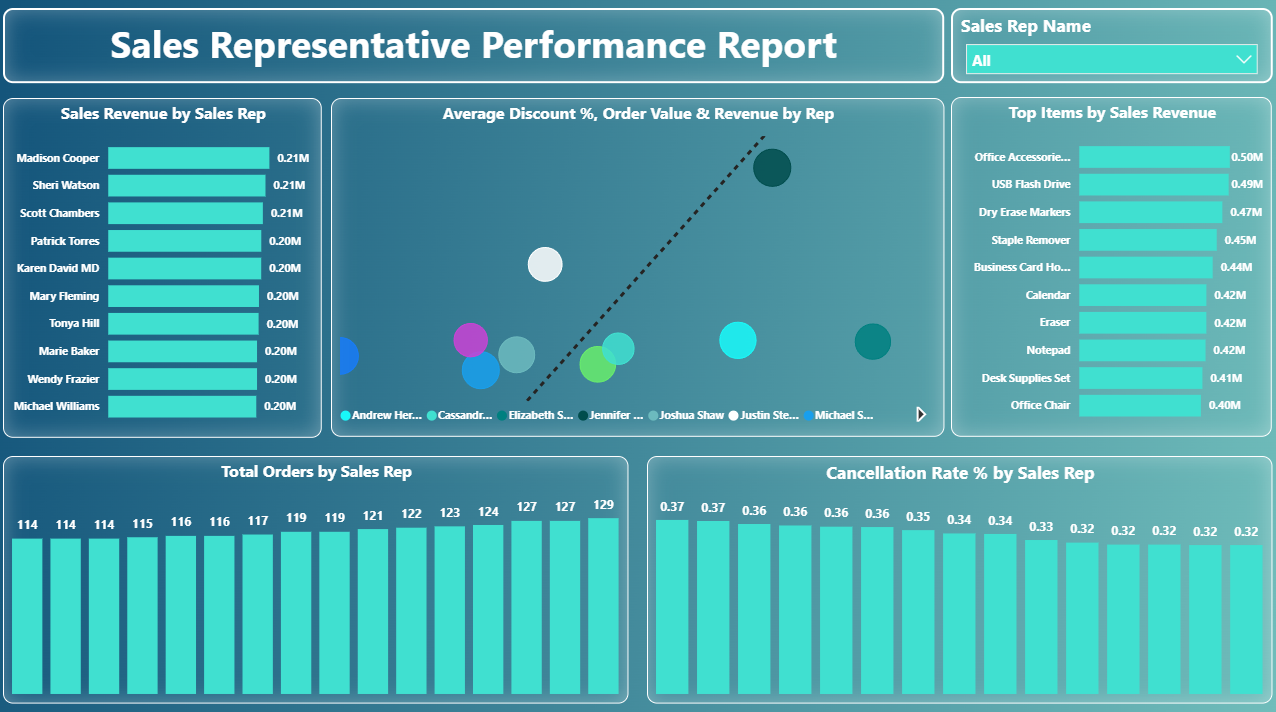

The dashboard page shown, as its layout file describes it:
{"tool":"powerbi","page":{"name":"Page 3","canvas":[1280,720],"ordinal":2},"visuals":[{"type":"clusteredBarChart","title":"Sales Revenue by Sales Rep","fields":{"Category":["Sales_Report.rep_name"],"Y":["Category-Ref.Total Sales Revenue"]},"box":[7,103.8,318.3,339.2],"z":0},{"type":"clusteredColumnChart","title":"Total Orders by Sales Rep","fields":{"Category":["Sales_Report.rep_name"],"Y":["Category-Ref.Total Orders"]},"box":[7,460.9,623.5,247.4],"z":1000},{"type":"scatterChart","title":"Average Discount %, Order Value & Revenue by Rep","fields":{"X":["Sales-Details.disc_per"],"Y":["Category-Ref.Average Order Value"],"Size":["Category-Ref.Sales Revenue"],"Series":["Sales_Report.rep_name"]},"box":[334.2,103.8,611.6,338.2],"z":2000},{"type":"clusteredColumnChart","title":"Cancellation Rate % by Sales Rep","fields":{"Category":["Sales_Report.rep_name"],"Y":["Category-Ref.Cancellation Rate %"]},"box":[649.5,460.9,623.5,247.4],"z":3000},{"type":"clusteredBarChart","title":"Top Items by Sales Revenue","fields":{"Category":["Store-Items.item_details"],"Y":["Category-Ref.Sales Revenue"]},"box":[952.8,102.8,320.2,339.2],"z":4000},{"type":"textbox","box":[7.1,14.1,939.3,74.6],"z":5000},{"type":"slicer","title":"Sales Rep Name","fields":{"Values":["Sales_Report.rep_name"]},"box":[952.4,14.1,320.5,74.6],"z":6000}]}

Visuals, with their boxes in screenshot pixels (x1, y1, x2, y2), scaled from the page's 1280x720 canvas onto the 1276x712 screenshot:
"Sales Revenue by Sales Rep" clusteredBarChart: l=7, t=103, r=324, b=438
"Total Orders by Sales Rep" clusteredColumnChart: l=7, t=456, r=629, b=700
"Average Discount %, Order Value & Revenue by Rep" scatterChart: l=333, t=103, r=943, b=437
"Cancellation Rate % by Sales Rep" clusteredColumnChart: l=647, t=456, r=1269, b=700
"Top Items by Sales Revenue" clusteredBarChart: l=950, t=102, r=1269, b=437
textbox: l=7, t=14, r=943, b=88
"Sales Rep Name" slicer: l=949, t=14, r=1269, b=88
